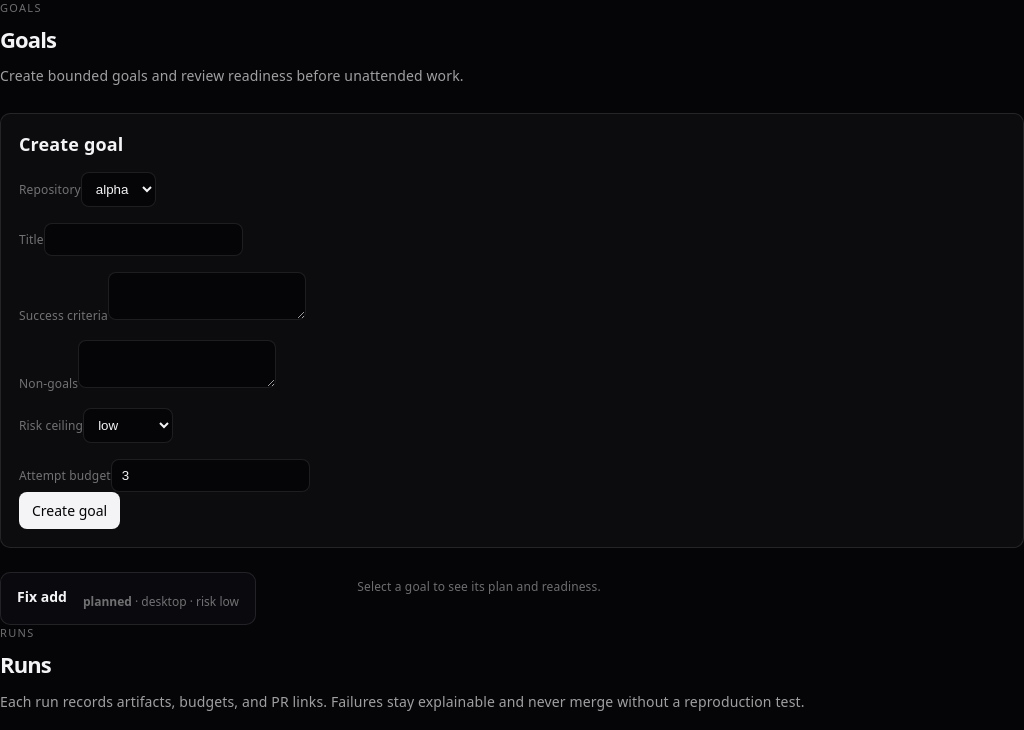
Test case: GoalsWorkbench › renders readiness checks; failed check has a fix link to the mapped Settings href
The width and height of the screenshot is (1024, 730).
What coordinates should you click on to do the following:
click the button "Fix add planned · desktop · risk low"
I would click on:
 (128, 599)
Its box is x1=0 y1=572 x2=256 y2=625.
(page scrolled)
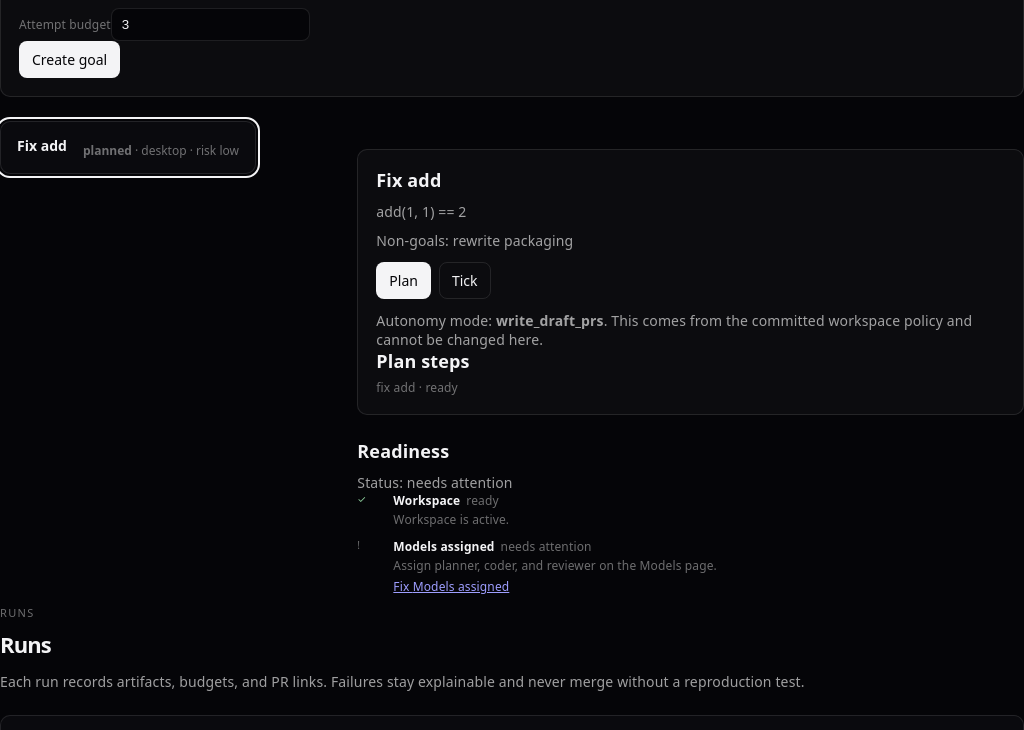
Expected: the text "Models assigned" is shown, x1=393 y1=538 x2=495 y2=555
Expected: the text "needs attention" is shown, x1=501 y1=538 x2=592 y2=555
